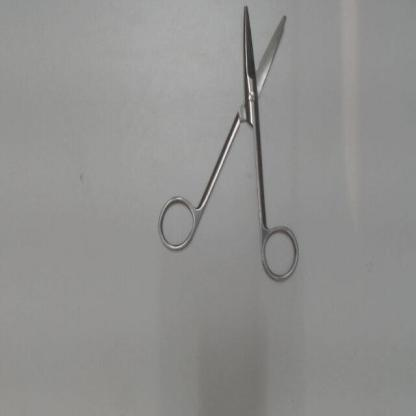Curved Mayo Scissors: (154, 3, 304, 286)
